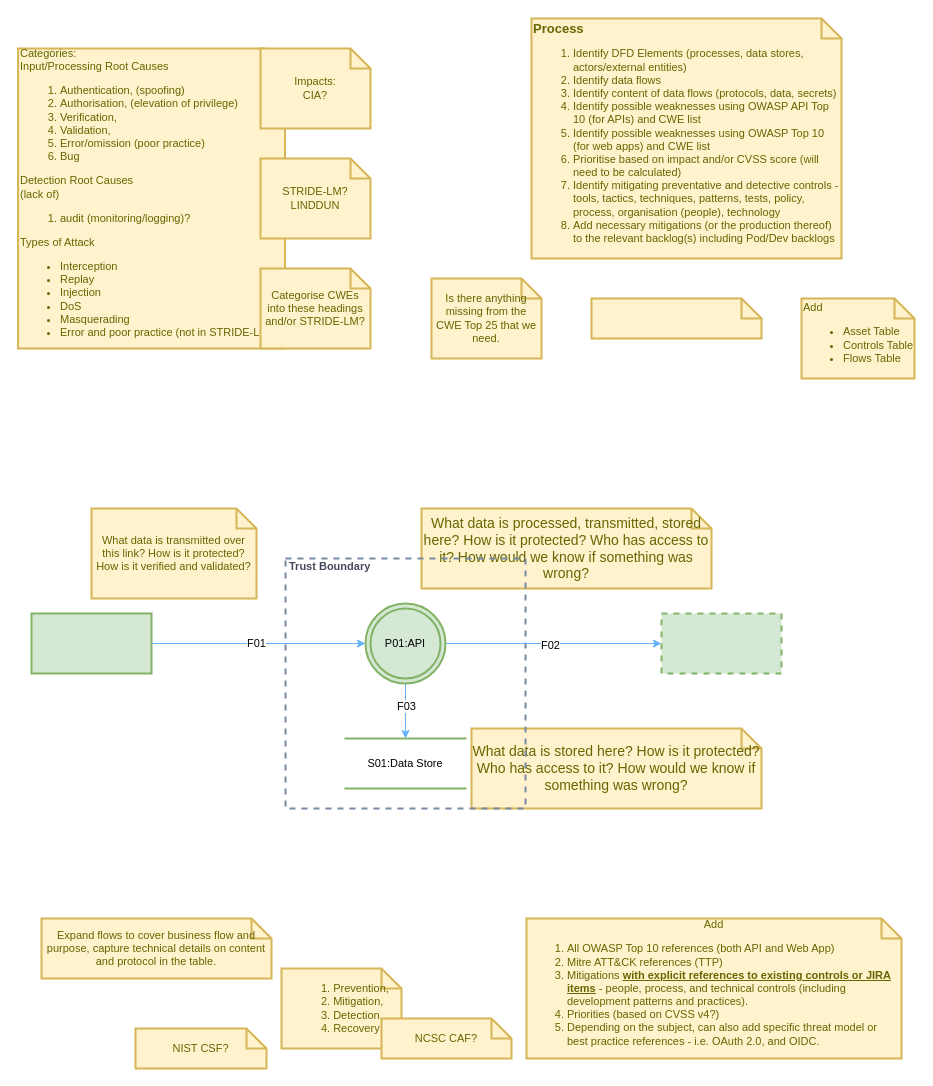
The diagram is 933 pixels wide and 1086 high, and some of its shapes have lost their labels. Here are the shapes that lost their labels. From the top down, the centre of each, then its label:
At pixel 676 318: "Identify standard list of threat source and agents".
At pixel 91 643: "E01:Client".
At pixel 721 643: "E02:External Resource".
